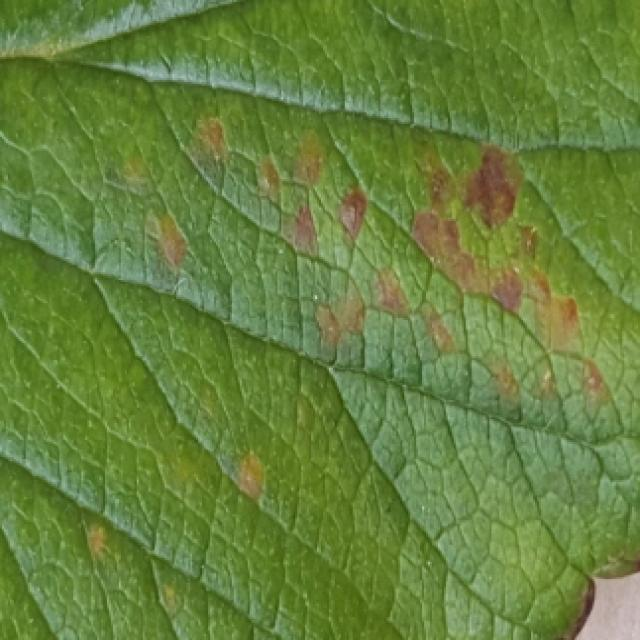Angular Leafspot: (66, 112, 640, 640)
